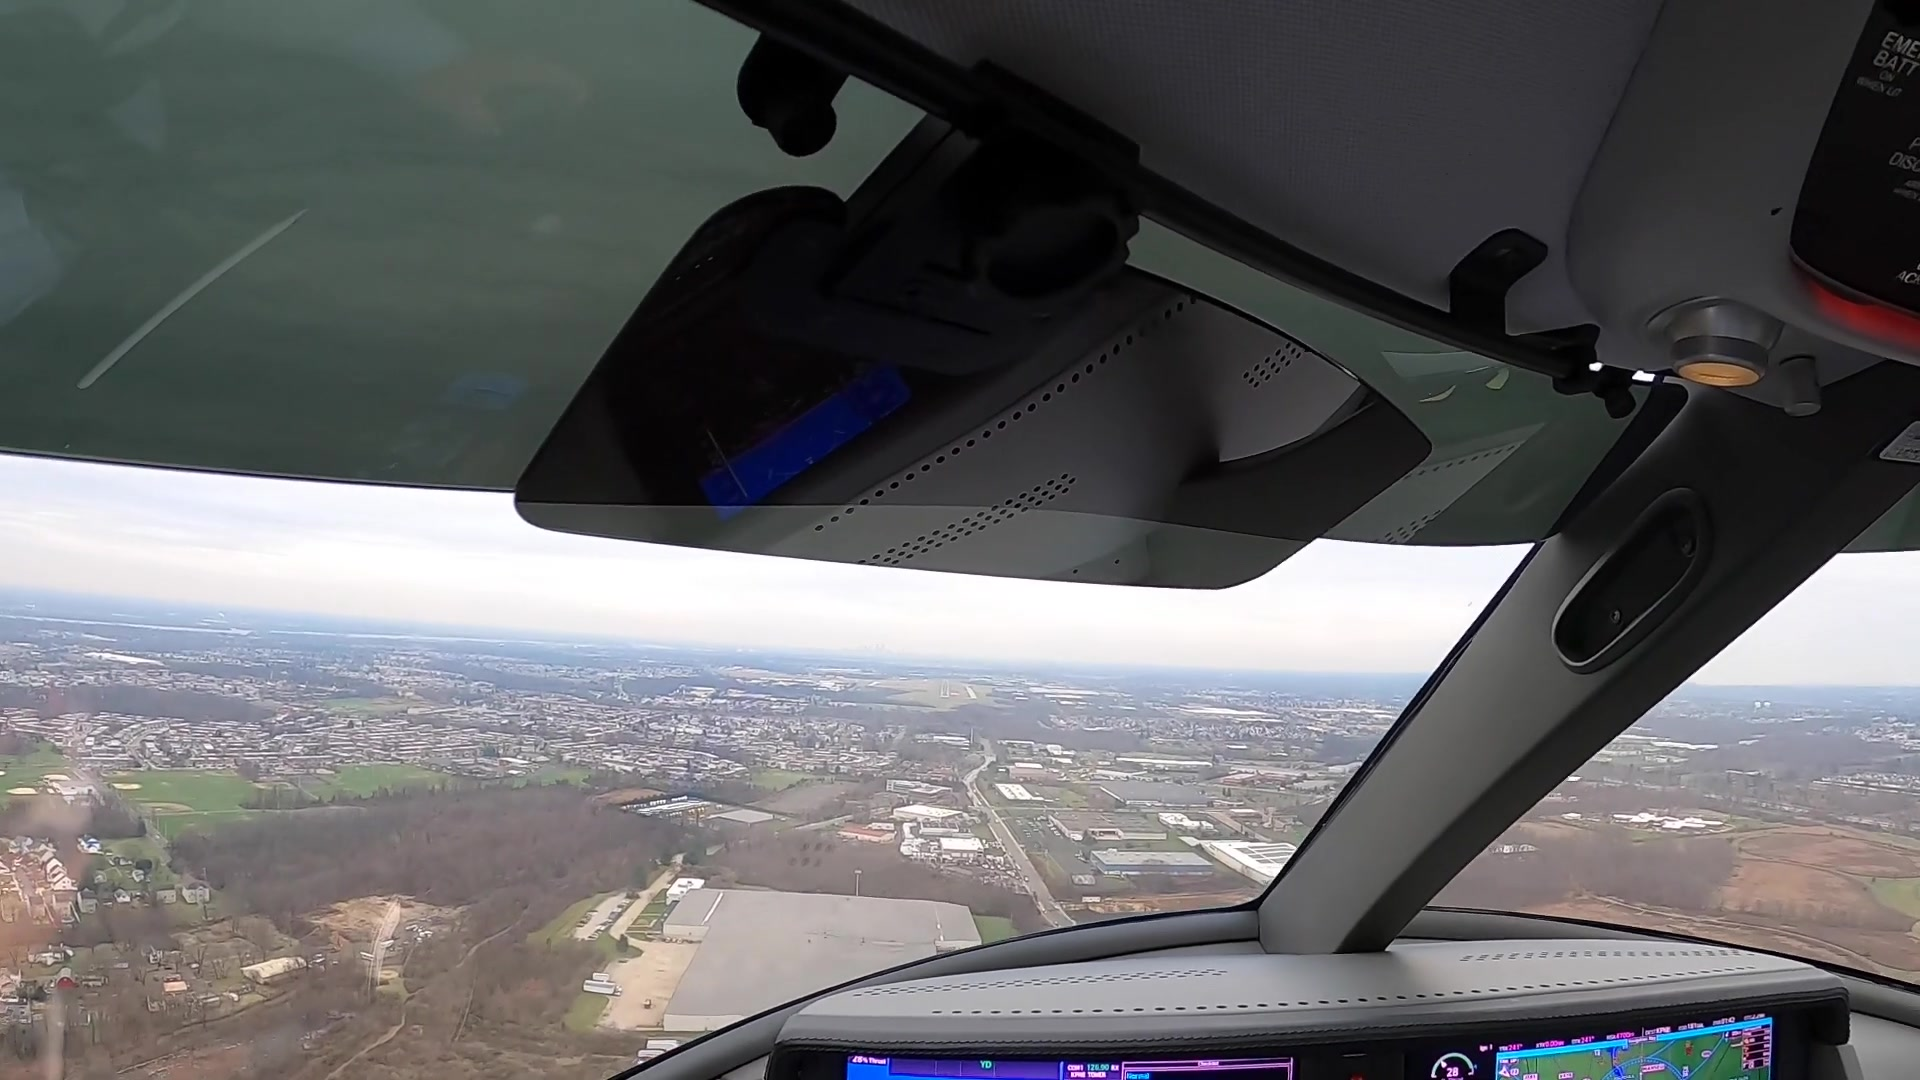runway: (938, 679, 951, 699)
